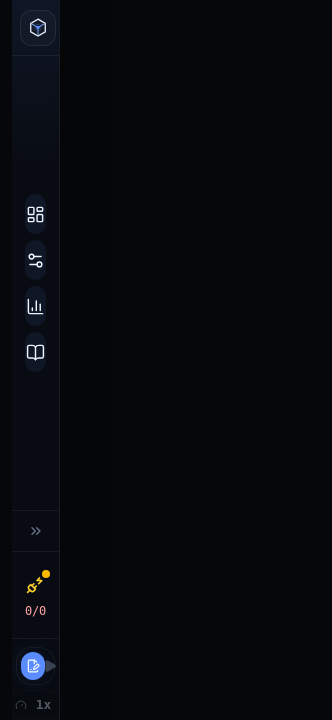
Test: AppSidebar › 点击展开按钮切换宽度并持久化到 localStorage
Click the button named "展开导航" at (36, 531), box [18,515,53,547]
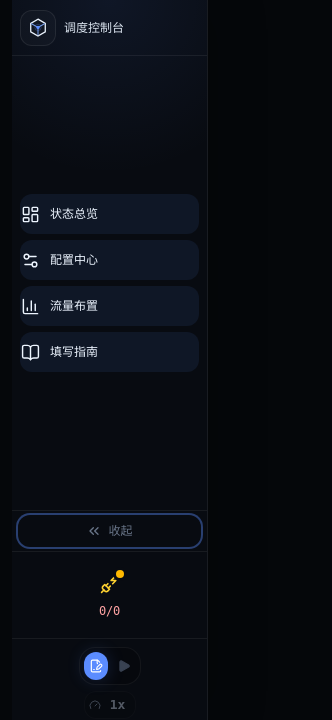
Result: the text "调度控制台" is shown at [64,20,124,36]
